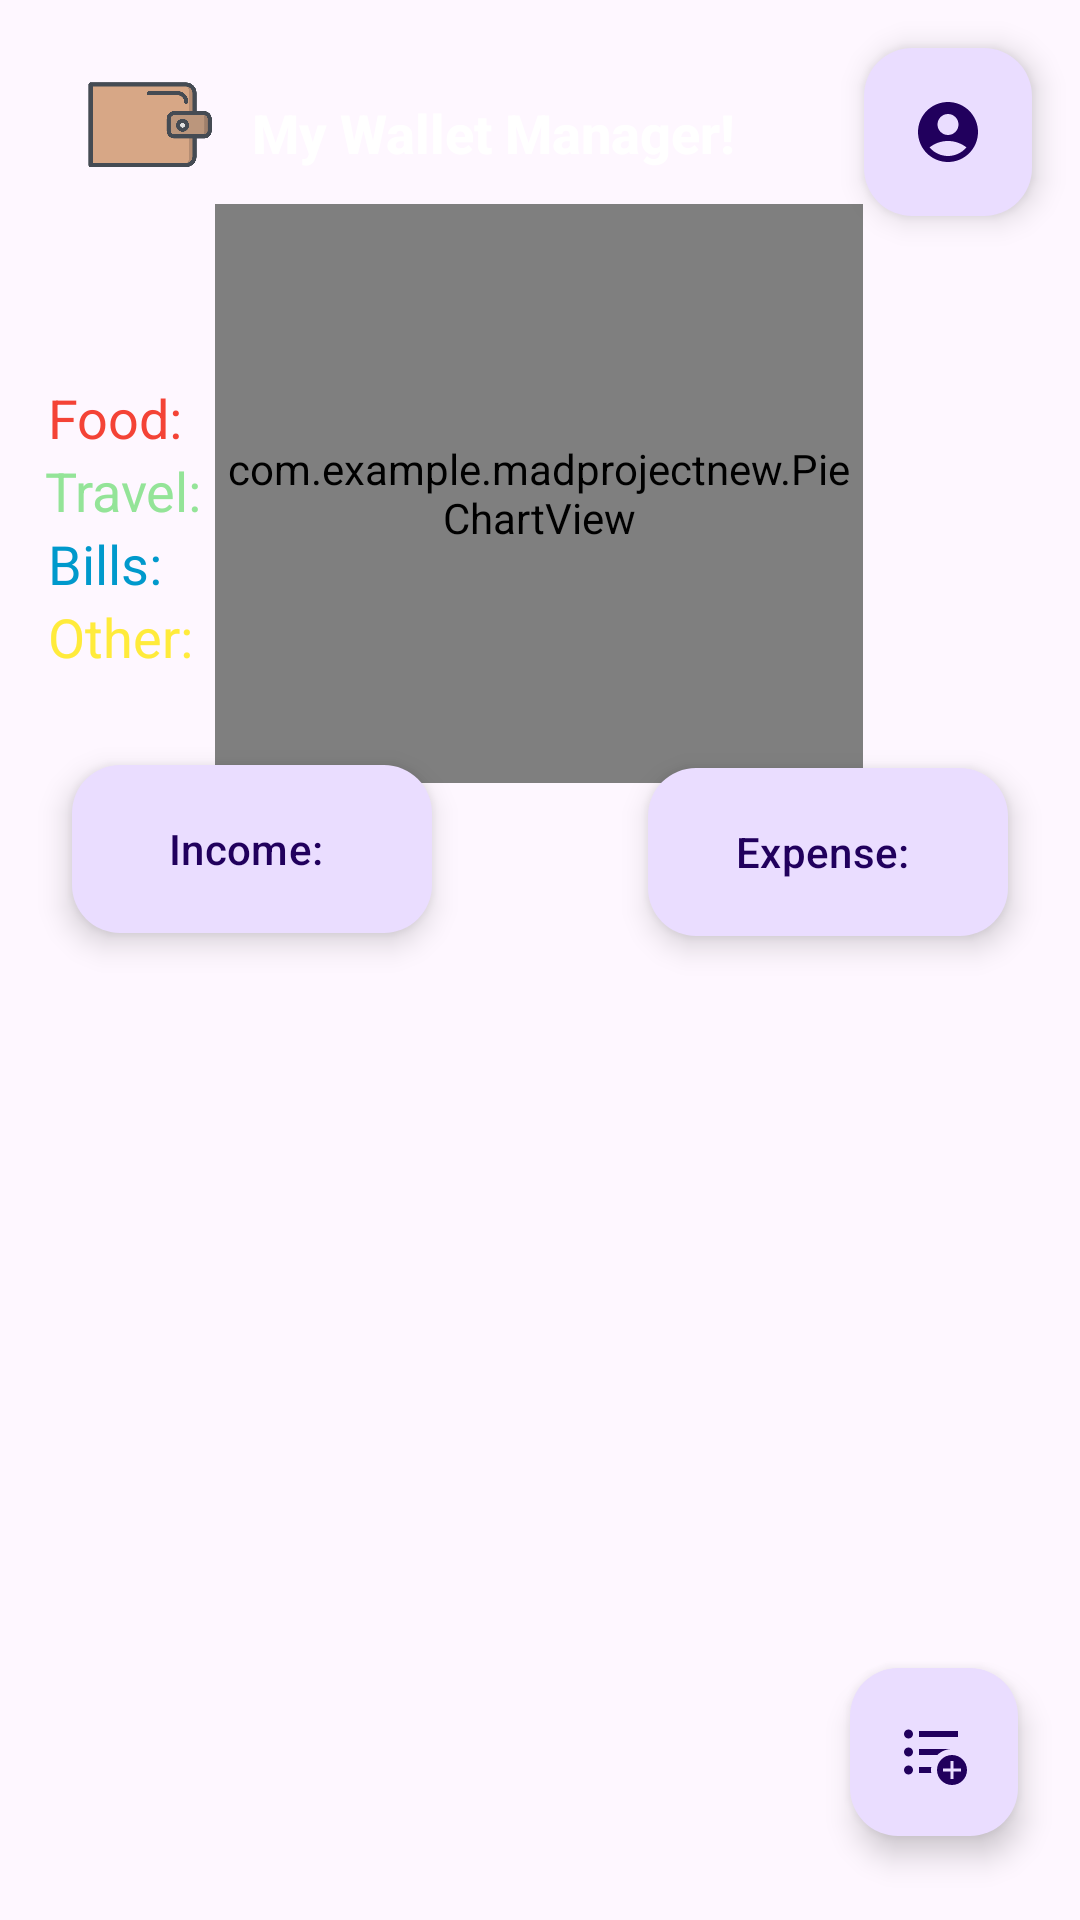

Named icons in this screenshot (1080 x 1920) and their centers, (x=x, y=y):
account: (x=948, y=132)
appicon: (x=150, y=124)
exp: (x=934, y=1752)
